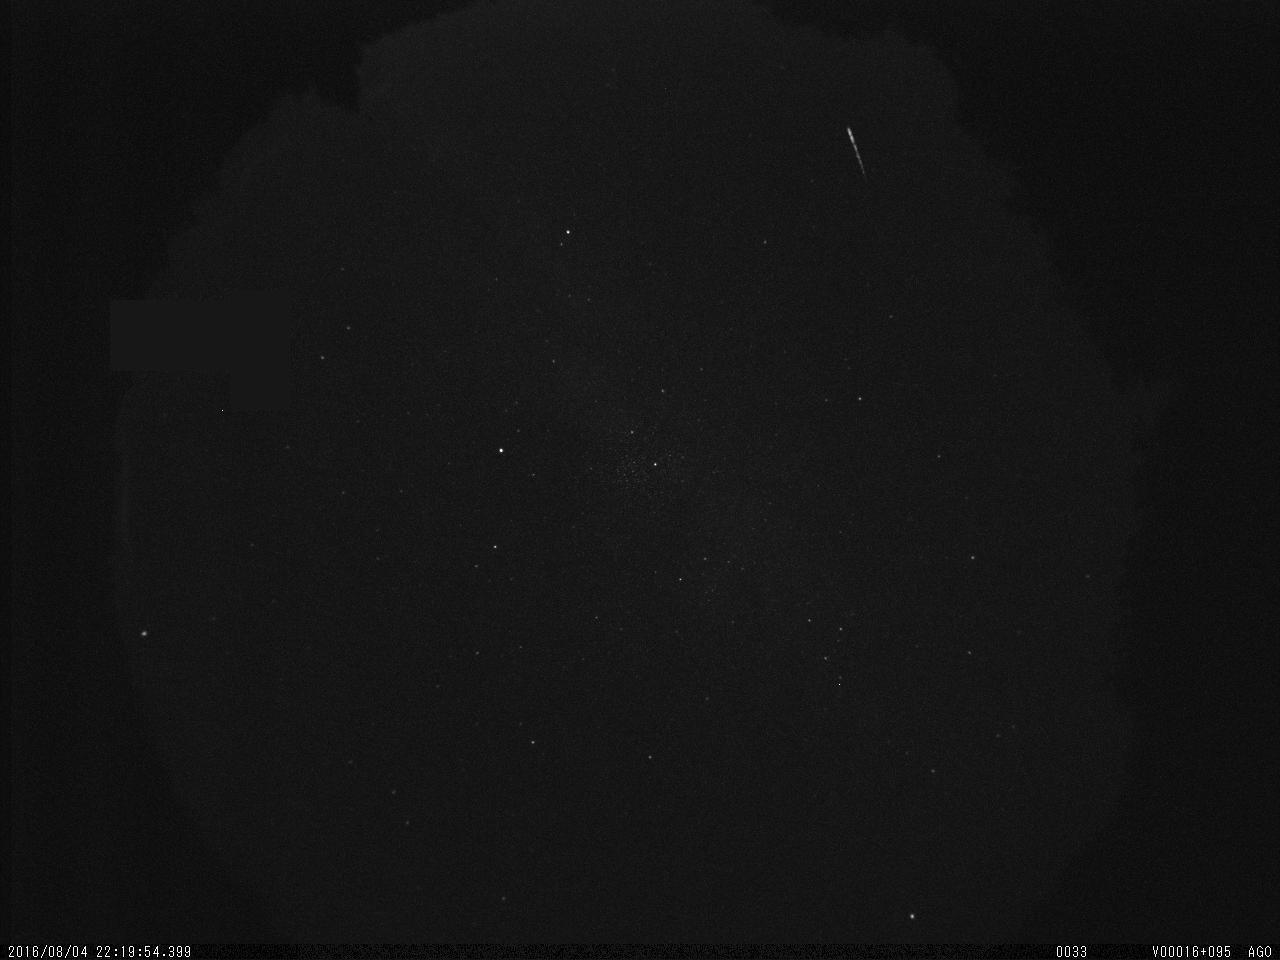meteor: (840, 118, 875, 183)
